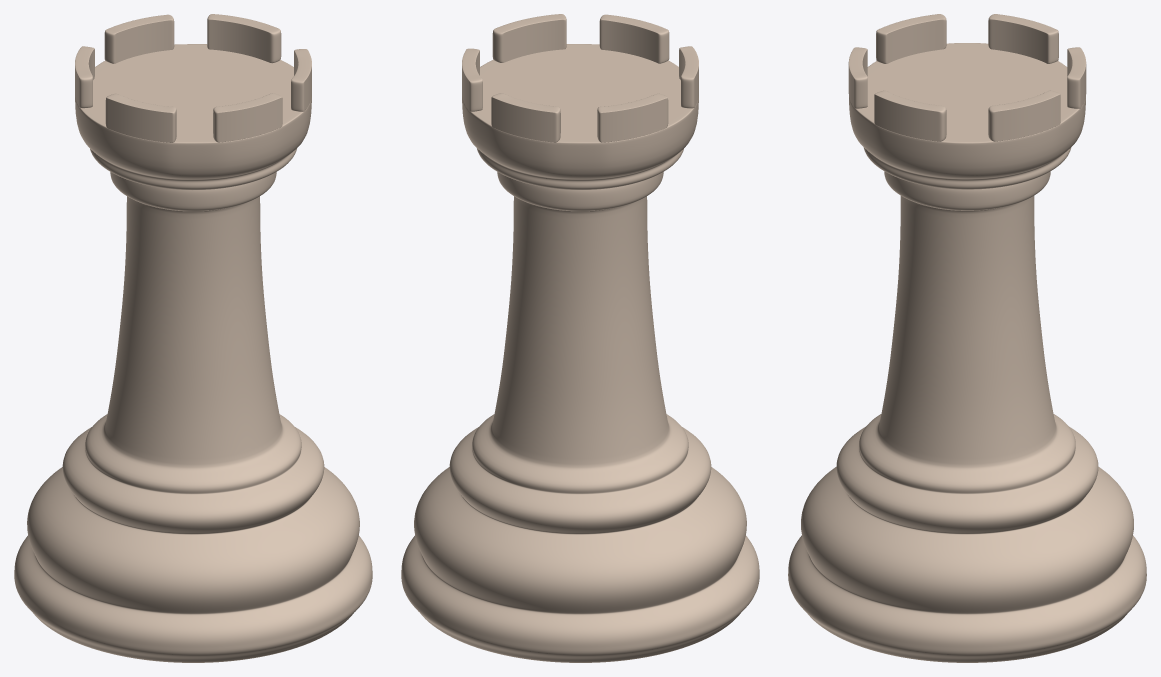
File: white_rook.glb
3 views of the same model, side by side, from view 1: azimuth 30°, elevation 25°; view 2: azimuth 150°, elevation 25°; view 3: azimuth 270°, elevation 25° (orthographic).
Parts seen in each view (by area): view 1: πύργος.001; view 2: πύργος.001; view 3: πύργος.001.
Part boxes in pixels (<box>): πύργος.001: <box>14,14,372,662</box>; πύργος.001: <box>401,14,759,662</box>; πύργος.001: <box>788,14,1146,662</box>.
Size of the model in its own units: 3.12 by 5.11 by 3.12.
